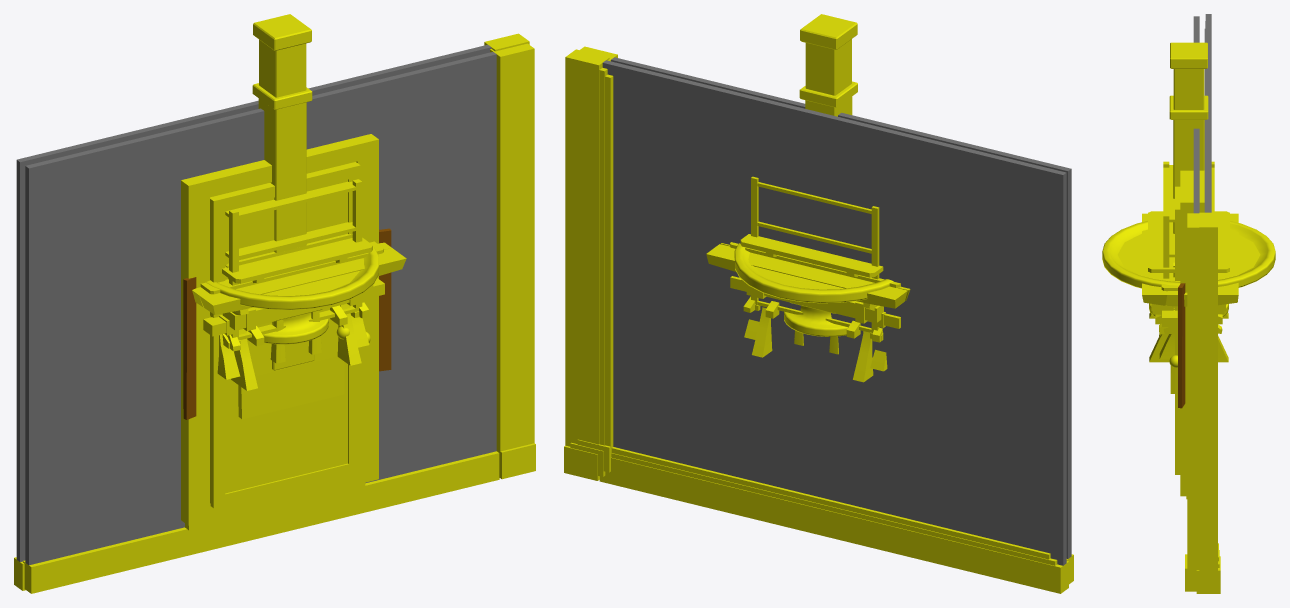
Rendered from Wood.fbx.
3 renders of one model, left to right at view 1: azimuth 30°, elevation 25°; view 2: azimuth 150°, elevation 25°; view 3: azimuth 270°, elevation 25°, orthographic. The views are drawn at different scales.
Visible parts, largest first — view 1: DOOR2, DOOR1, DOOR4, PILLAR, Shelf, ROUND_TABLE, Rack, PILLAR1, WINDOW, Table_Small, Table, SMALL_BENCH (+3 smaller); view 2: DOOR4, DOOR1, DOOR2, DOOR3, ROUND_TABLE, PILLAR1, Table_Small, Rack, SMALL_BENCH, Table, PILLAR, BENCH (+1 smaller); view 3: DOOR4, DOOR2, ROUND_TABLE, DOOR1, PILLAR1, Table_Small, PILLAR, Table, Rack, WINDOW, SMALL_BENCH, BENCH (+1 smaller).
Part boxes in pixels (x1=…): DOOR2: x1=23, y1=43, x2=535, y2=593; DOOR1: x1=181, y1=134, x2=378, y2=525; DOOR4: x1=14, y1=33, x2=529, y2=590; PILLAR: x1=252, y1=83, x2=314, y2=370; Shelf: x1=225, y1=234, x2=352, y2=419; ROUND_TABLE: x1=206, y1=246, x2=378, y2=344; Rack: x1=225, y1=179, x2=362, y2=340; PILLAR1: x1=253, y1=14, x2=311, y2=97; WINDOW: x1=183, y1=228, x2=391, y2=419; Table_Small: x1=192, y1=242, x2=406, y2=351; Table: x1=222, y1=237, x2=372, y2=346; SMALL_BENCH: x1=222, y1=285, x2=373, y2=390; DOOR4: x1=564, y1=49, x2=1068, y2=593; DOOR1: x1=577, y1=74, x2=1050, y2=559; DOOR2: x1=580, y1=46, x2=1073, y2=584; DOOR3: x1=570, y1=68, x2=1057, y2=565; ROUND_TABLE: x1=734, y1=243, x2=893, y2=336; PILLAR1: x1=800, y1=14, x2=857, y2=95; Table_Small: x1=706, y1=243, x2=910, y2=342; Rack: x1=751, y1=176, x2=879, y2=333; SMALL_BENCH: x1=741, y1=280, x2=883, y2=382; Table: x1=740, y1=234, x2=883, y2=338; PILLAR: x1=799, y1=81, x2=857, y2=116; BENCH: x1=730, y1=276, x2=900, y2=371; DOOR4: x1=1196, y1=14, x2=1220, y2=593; DOOR2: x1=1169, y1=16, x2=1199, y2=591; ROUND_TABLE: x1=1102, y1=221, x2=1275, y2=316; DOOR1: x1=1159, y1=29, x2=1218, y2=561; PILLAR1: x1=1170, y1=42, x2=1207, y2=109; Table_Small: x1=1142, y1=213, x2=1238, y2=334; PILLAR: x1=1169, y1=95, x2=1208, y2=233; Table: x1=1148, y1=211, x2=1229, y2=324; Rack: x1=1163, y1=161, x2=1214, y2=278; WINDOW: x1=1178, y1=283, x2=1185, y2=408; SMALL_BENCH: x1=1149, y1=304, x2=1228, y2=362; BENCH: x1=1159, y1=308, x2=1177, y2=359.
Size of the model in its own units: 601 by 577 by 206.
